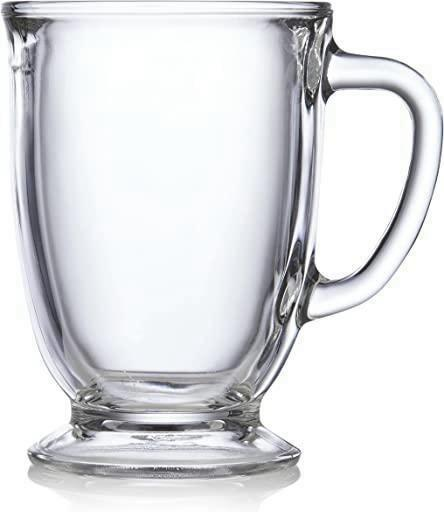glass-mug: (0, 0, 442, 480)
